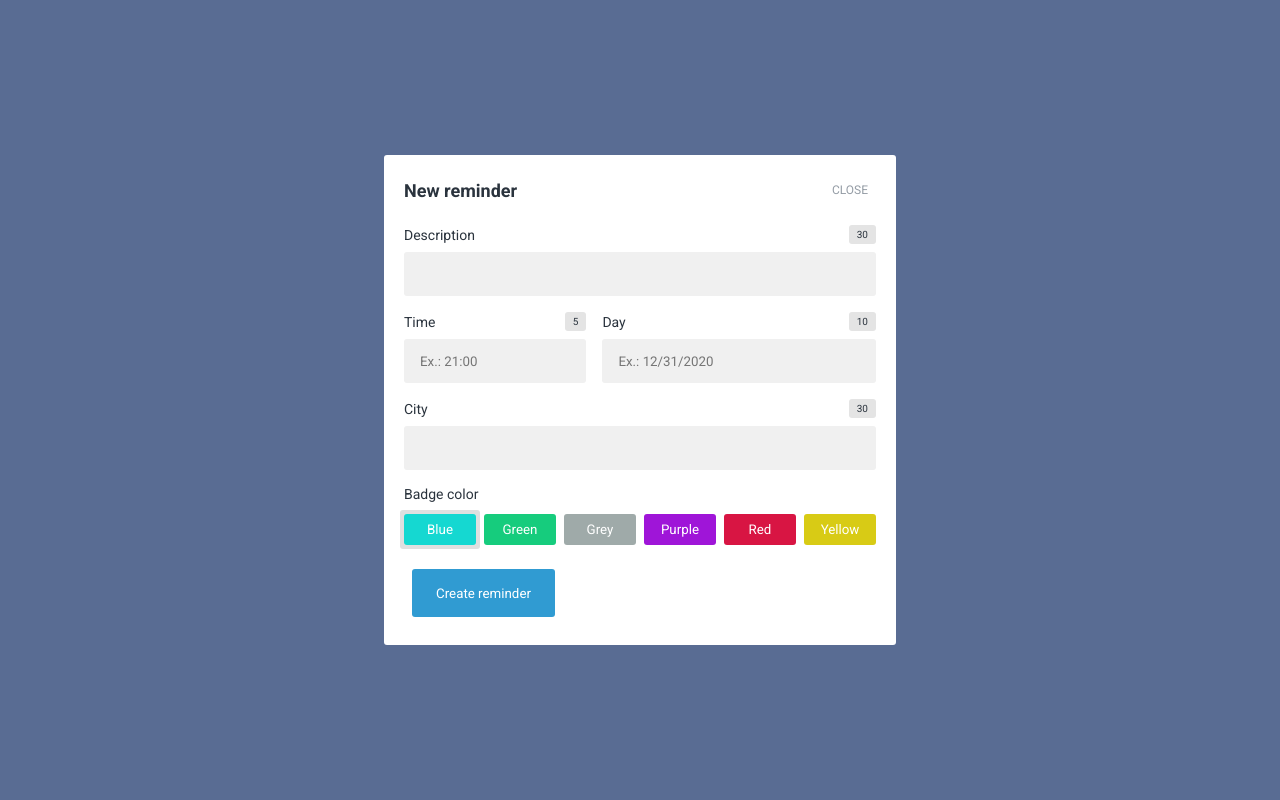
it: New reminder dialog › should not allow the creation of a reminder without description
Expected: the text "Description field is mandatory" is not shown
Click the button with test id "CreateNewReminderButton" at (484,593), box [412,569,555,617]
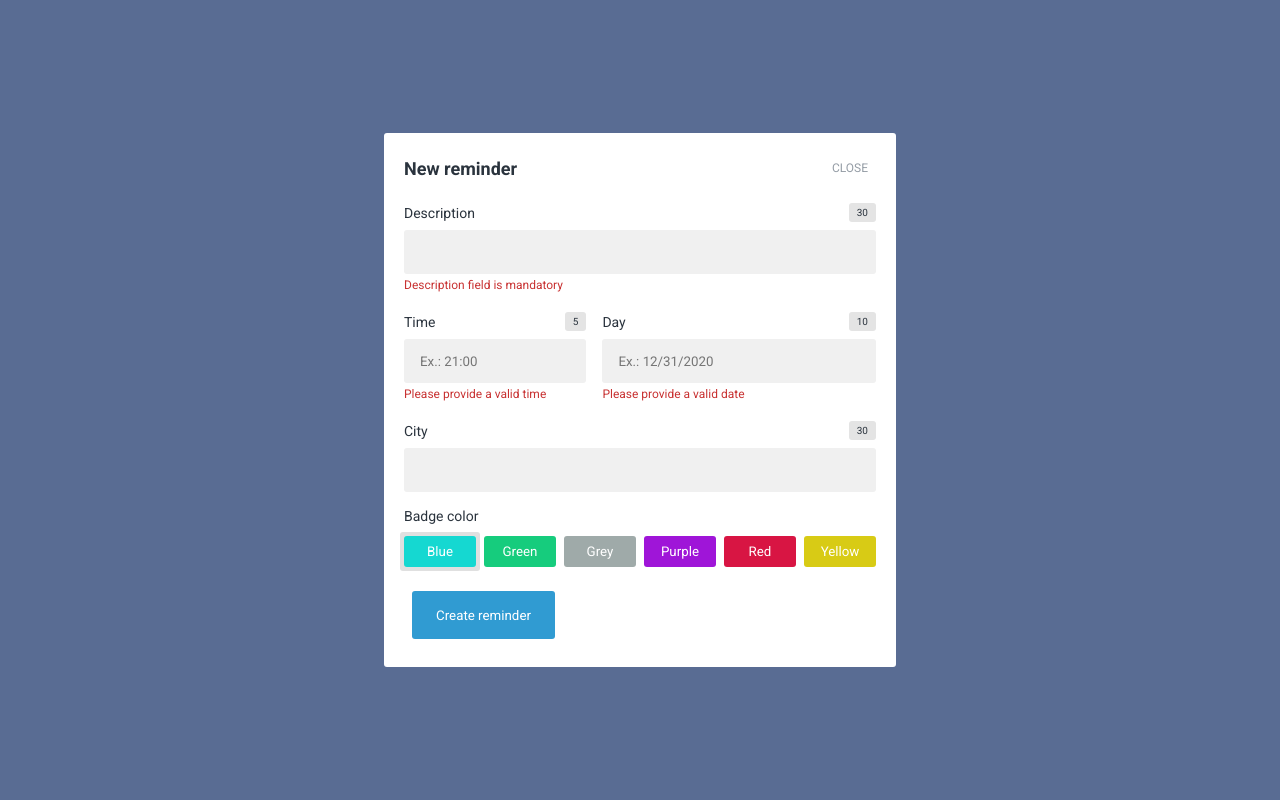
Expected: the text "Description field is mandatory" is shown, [404,278,563,292]
